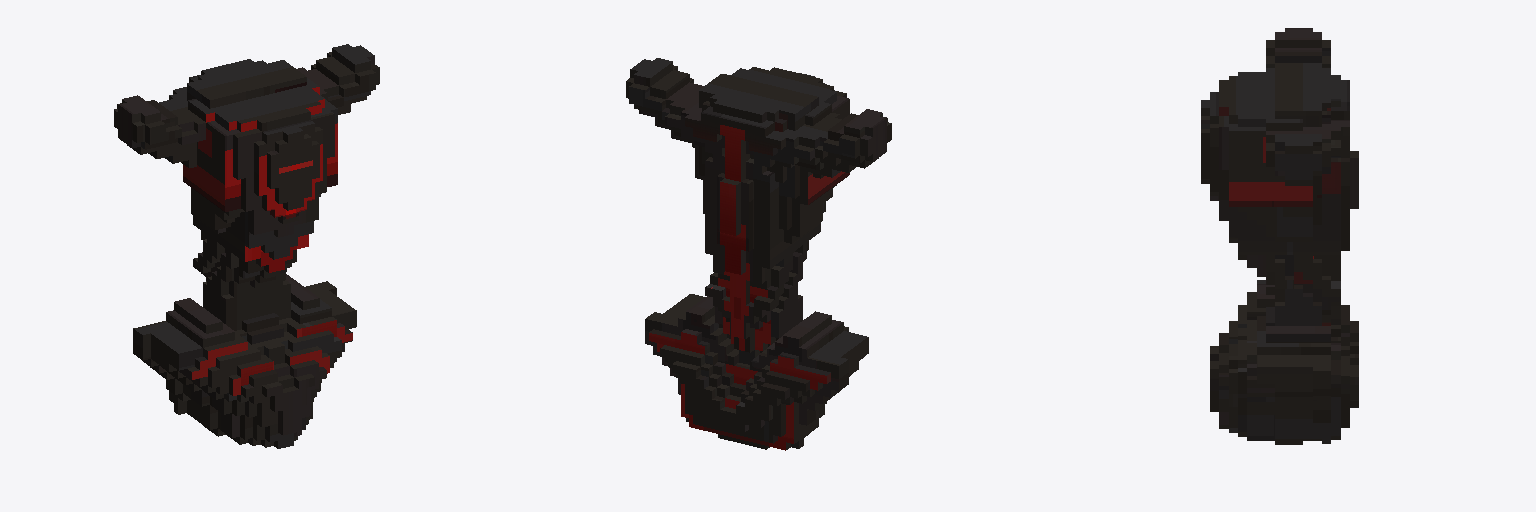
3 renders of one model, left to right at view 1: azimuth 30°, elevation 25°; view 2: azimuth 150°, elevation 25°; view 3: azimuth 270°, elevation 25°, orthographic.
Visible parts, largest first — view 1: Mech_-_SlimFast-5; view 2: Mech_-_SlimFast-5; view 3: Mech_-_SlimFast-5.
Boxes of the visible parts, box(x1,y1,x2,y2) form: Mech_-_SlimFast-5: box(114, 44, 379, 448); Mech_-_SlimFast-5: box(626, 58, 891, 450); Mech_-_SlimFast-5: box(1201, 28, 1358, 444).
Bounding box in the file's own units: 3 × 4 × 1.7.
1 materials, 1 textured.